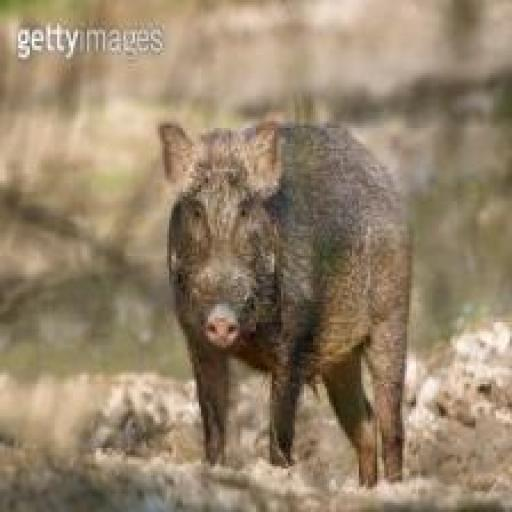Pig: (153, 110, 425, 499)
